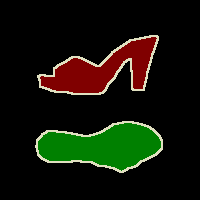shoe: (38, 35, 158, 94), (36, 122, 162, 172)
